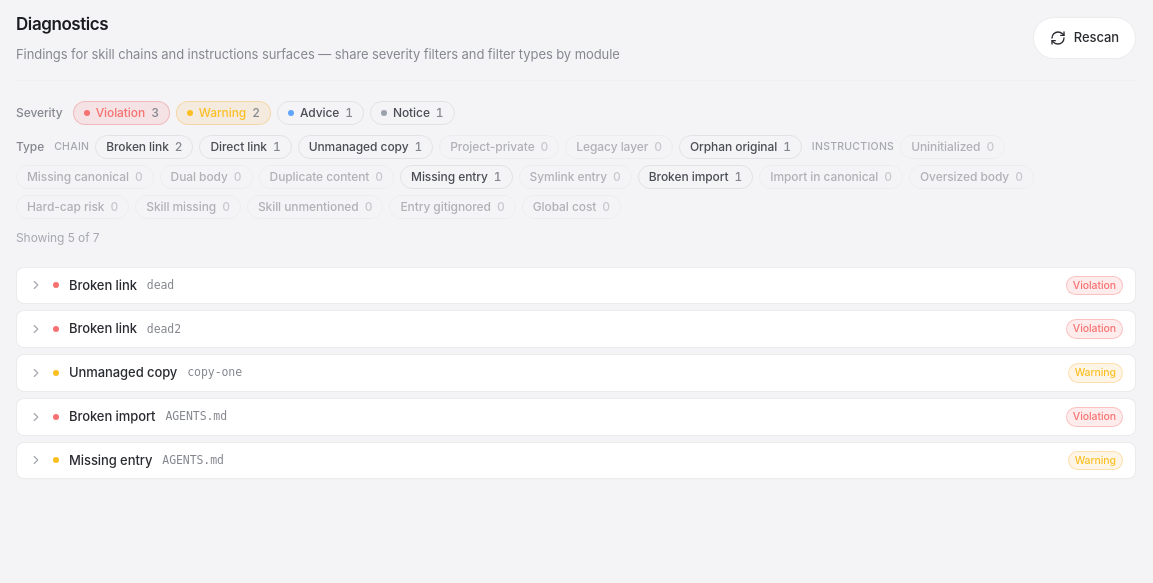
Test: ChainDoctor › merges chain deviations with instructions rules under shared severity filters
Click the button with test id "sev-violation" at coordinates (121, 112), box [73, 100, 170, 124]
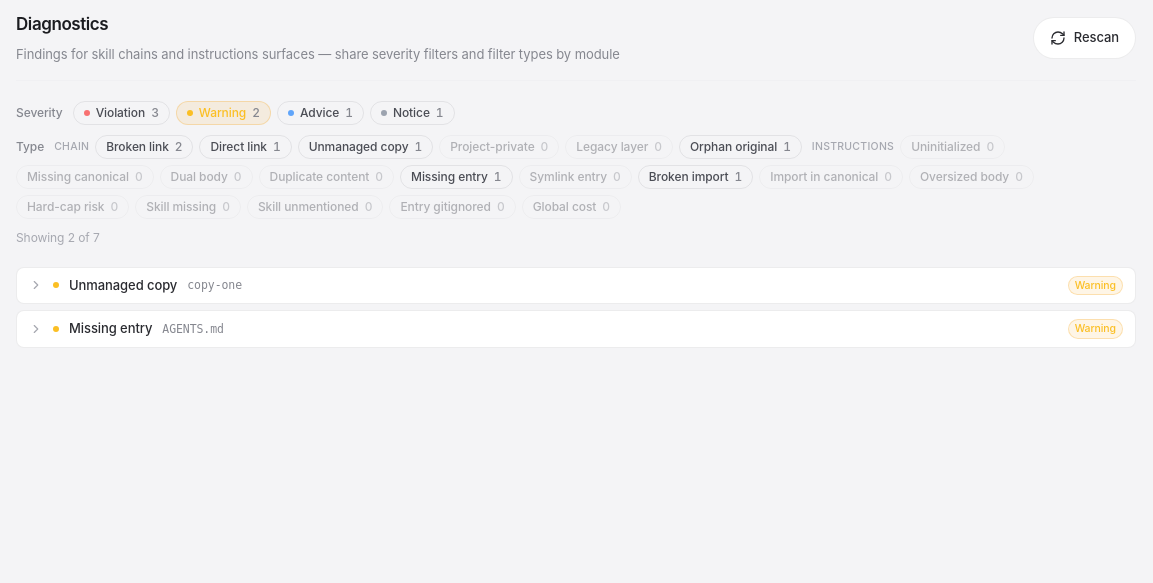
Click the button with test id "sev-warning" at coordinates (223, 112), box [176, 100, 271, 124]
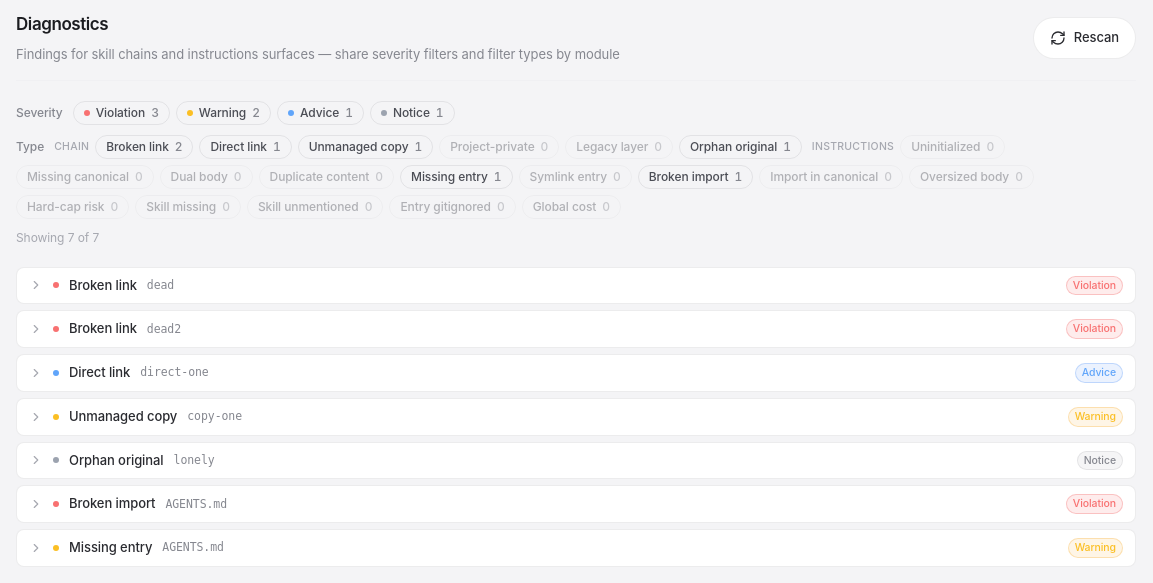
Expected: the number of elements with test id "finding" is 7
Click the button with test id "rule-broken_import" at coordinates (696, 176), box [638, 164, 753, 188]
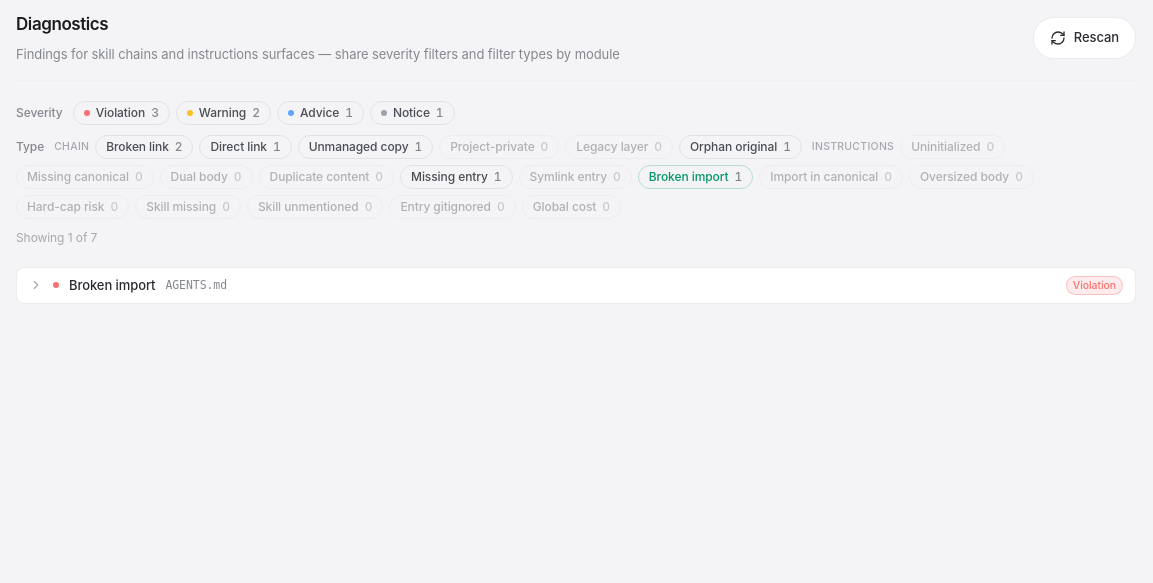
Expected: the number of elements with test id "finding" is 1, [16, 266, 1136, 304]
Click the button with test id "rule-broken_import" at coordinates (696, 176), box [638, 164, 753, 188]
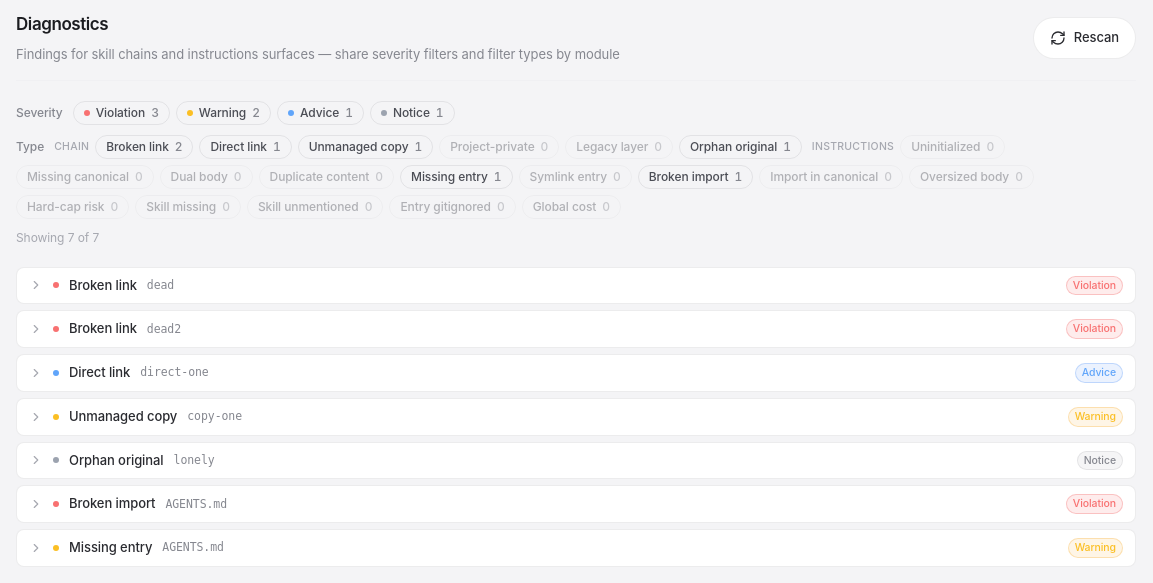
Click the button with test id "sev-violation" at coordinates (121, 112), box [73, 100, 170, 124]
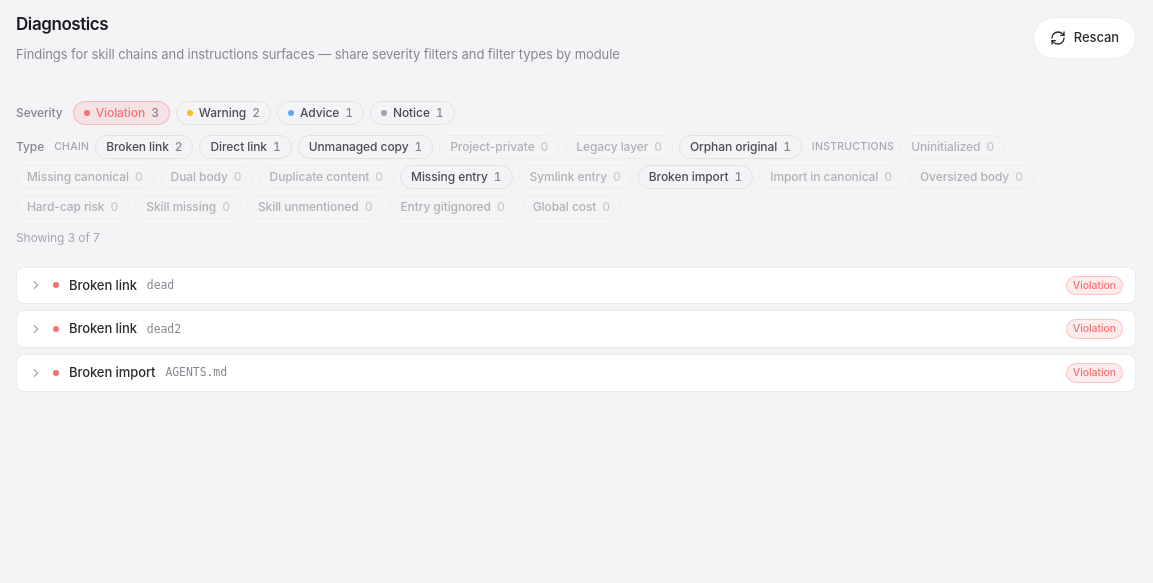
Expected: the number of elements with test id "finding" is 3, [16, 266, 1136, 304]; [16, 310, 1136, 348]; [16, 354, 1136, 392]
